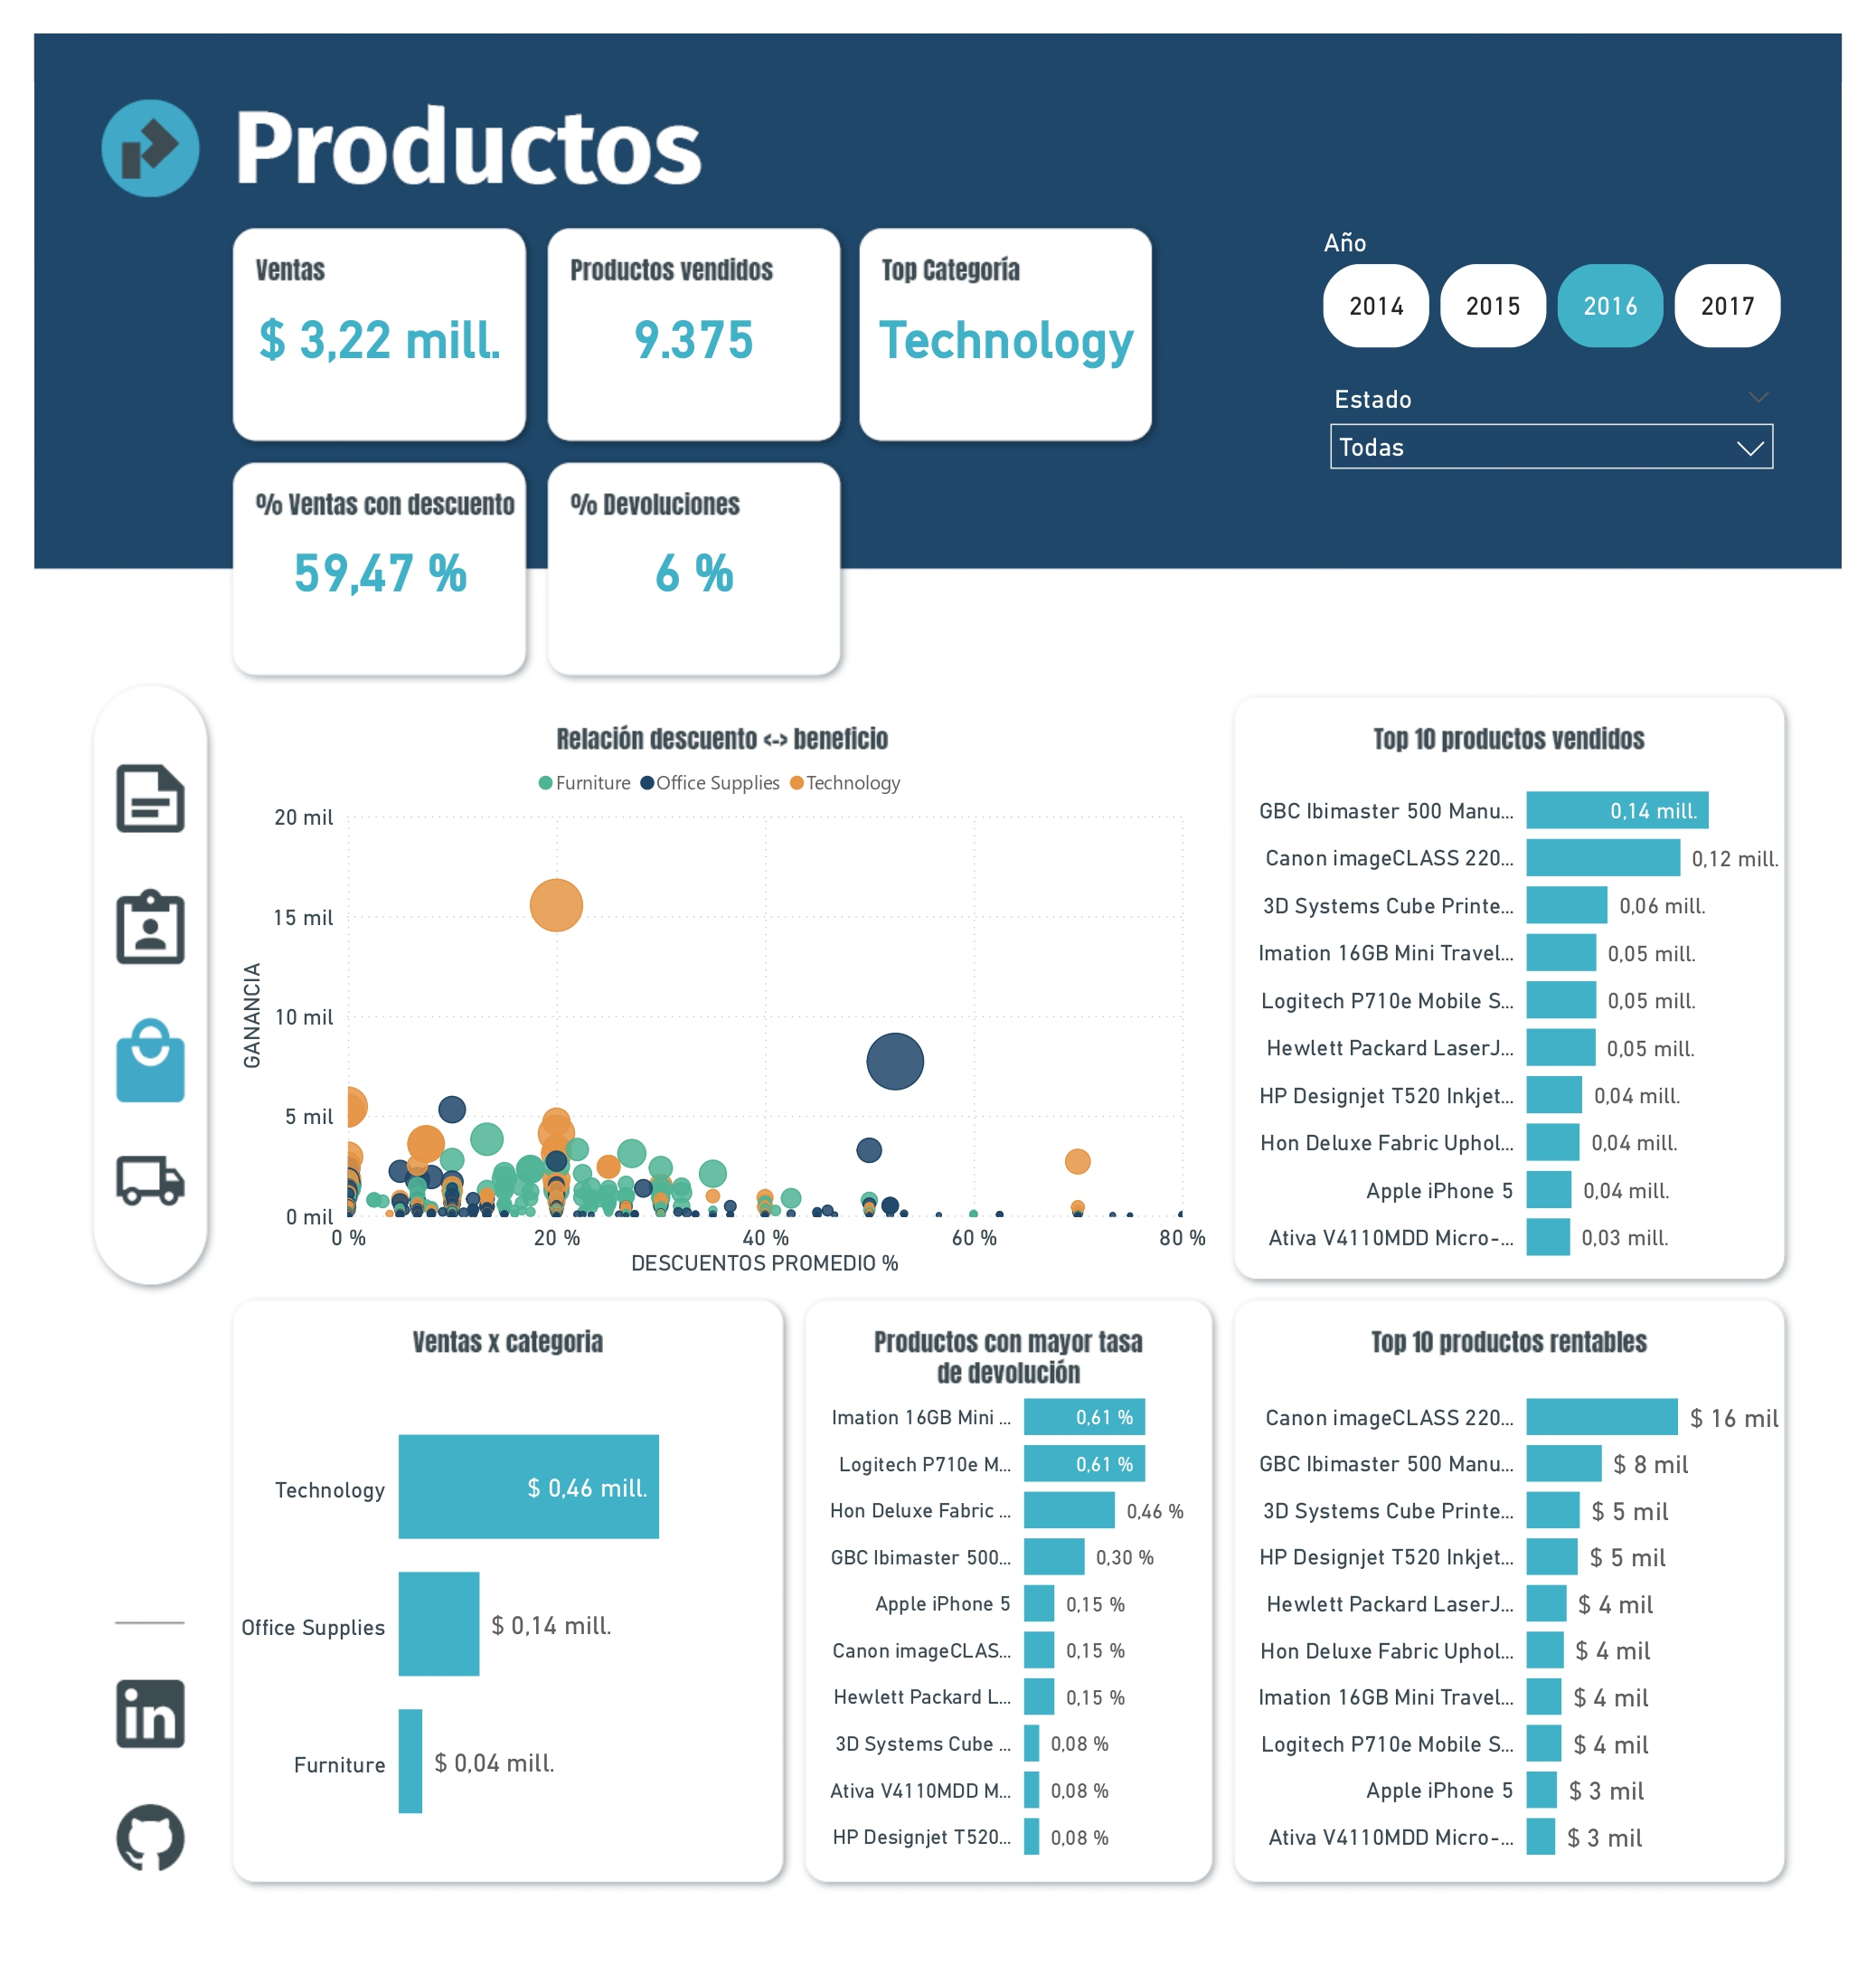

This screenshot's page, from the dashboard's own definition file:
{"tool":"powerbi","page":{"name":"Productos","canvas":[1280,1350],"ordinal":3},"visuals":[{"type":"actionButton","box":[53.3,510,58.9,62.2],"z":0},{"type":"actionButton","box":[53.3,604.4,58.9,62.2],"z":1000},{"type":"actionButton","box":[53.3,695.6,58.9,62.2],"z":2000},{"type":"actionButton","box":[53.3,778.9,58.9,62.2],"z":3000},{"type":"advancedSlicerVisual","fields":{"Values":["dimCalendario.Año"]},"box":[908.3,136.7,333.3,90],"z":4000},{"type":"card","fields":{"Values":["Medidas.VENTAS"]},"box":[140,136.7,208.9,152.2],"z":5000},{"type":"card","fields":{"Values":["Medidas.PRODUCTOS"]},"box":[363.3,136.7,208.9,152.2],"z":6000},{"type":"card","fields":{"Values":["Medidas.TOP CATEGORIA MAS VENDIDA"]},"box":[584.4,136.7,208.9,152.2],"z":7000},{"type":"card","fields":{"Values":["Medidas.VENTAS CON DESCUENTO EN %"]},"box":[140,302.2,208.9,152.2],"z":8000},{"type":"card","fields":{"Values":["Medidas.DEVOLUCIONES %"]},"box":[363.3,302.2,208.9,152.2],"z":9000},{"type":"barChart","fields":{"Y":["Medidas.VENTAS"],"Category":["dimProducto.Category"]},"box":[140,940,391,368],"z":10000},{"type":"barChart","fields":{"Y":["Medidas.VENTAS"],"Category":["dimProducto.Name"]},"box":[851.2,510,391.2,373.8],"z":11000},{"type":"barChart","fields":{"Y":["Medidas.TASA DE DEVOLUCION %"],"Category":["dimProducto.Name"]},"box":[546.2,940,288.8,367.5],"z":12000},{"type":"barChart","fields":{"Y":["Medidas.GANANCIA"],"Category":["dimProducto.Name"]},"box":[851.2,940,391.2,367.5],"z":13000},{"type":"scatterChart","fields":{"Y":["Medidas.GANANCIA"],"X":["Medidas.DESCUENTOS PROMEDIO %"],"Size":["Medidas.VENTAS"],"Category":["dimProducto.Name"],"Series":["dimProducto.Category"]},"box":[140,510,695,373.8],"z":14000},{"type":"slicer","fields":{"Values":["dimRegion.State"]},"box":[908.3,243.3,333.3,90],"z":15000}]}

Visuals, with their boxes in screenshot pixels (x1, y1, x2, y2), scaled from the page's 1280x1350 canvas onto the 1876x1975 screenshot:
actionButton: (78, 746, 165, 837)
actionButton: (78, 884, 165, 975)
actionButton: (78, 1017, 165, 1109)
actionButton: (78, 1139, 165, 1231)
advancedSlicerVisual - dimCalendario.Año: (1331, 200, 1820, 332)
card - Medidas.VENTAS: (205, 200, 512, 422)
card - Medidas.PRODUCTOS: (533, 200, 839, 422)
card - Medidas.TOP CATEGORIA MAS VENDIDA: (856, 200, 1163, 422)
card - Medidas.VENTAS CON DESCUENTO EN %: (205, 442, 512, 665)
card - Medidas.DEVOLUCIONES %: (533, 442, 839, 665)
barChart - Medidas.VENTAS x dimProducto.Category: (205, 1375, 778, 1914)
barChart - Medidas.VENTAS x dimProducto.Name: (1248, 746, 1821, 1293)
barChart - Medidas.TASA DE DEVOLUCION % x dimProducto.Name: (800, 1375, 1224, 1913)
barChart - Medidas.GANANCIA x dimProducto.Name: (1248, 1375, 1821, 1913)
scatterChart - Medidas.GANANCIA x Medidas.DESCUENTOS PROMEDIO %: (205, 746, 1224, 1293)
slicer - dimRegion.State: (1331, 356, 1820, 487)
